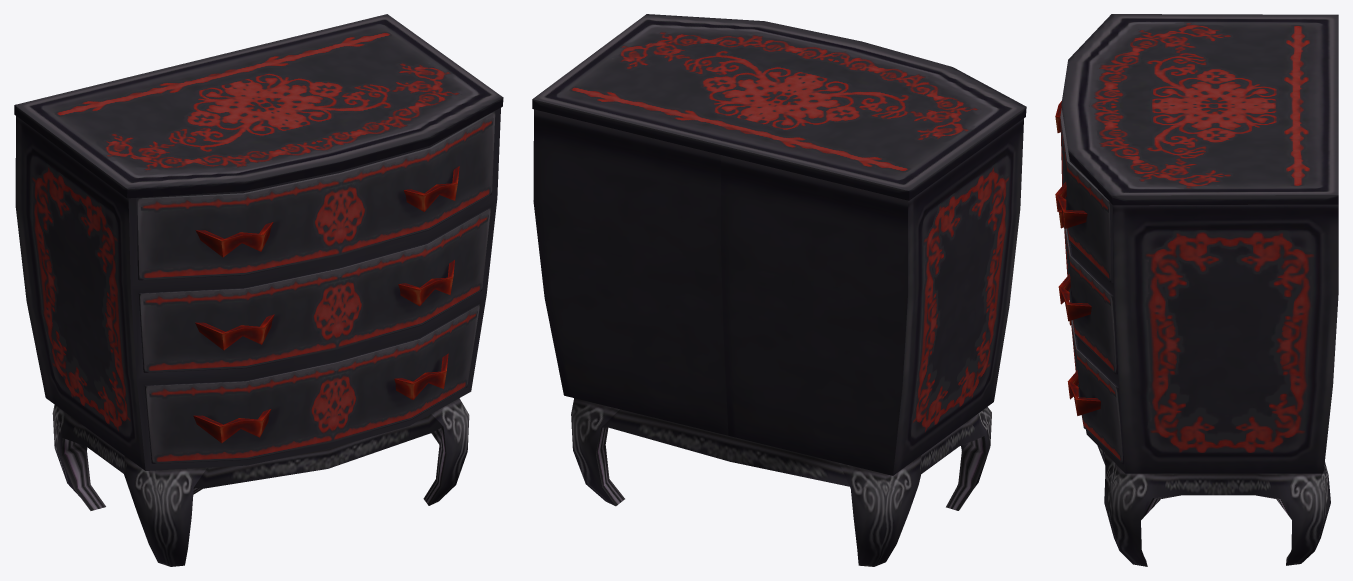
File: VictorianChest_HD.fbx
3 views of the same model, side by side, from view 1: azimuth 30°, elevation 25°; view 2: azimuth 150°, elevation 25°; view 3: azimuth 270°, elevation 25° (orthographic). The views are drawn at different scales.
Visible parts, largest first — view 1: VictorianChest; view 2: VictorianChest; view 3: VictorianChest.
Part boxes in pixels (<box>): VictorianChest: <box>14,14,503,566</box>; VictorianChest: <box>532,14,1026,566</box>; VictorianChest: <box>1055,14,1338,566</box>.
Size of the model in its own units: 0.9702 by 0.9833 by 0.6393.
